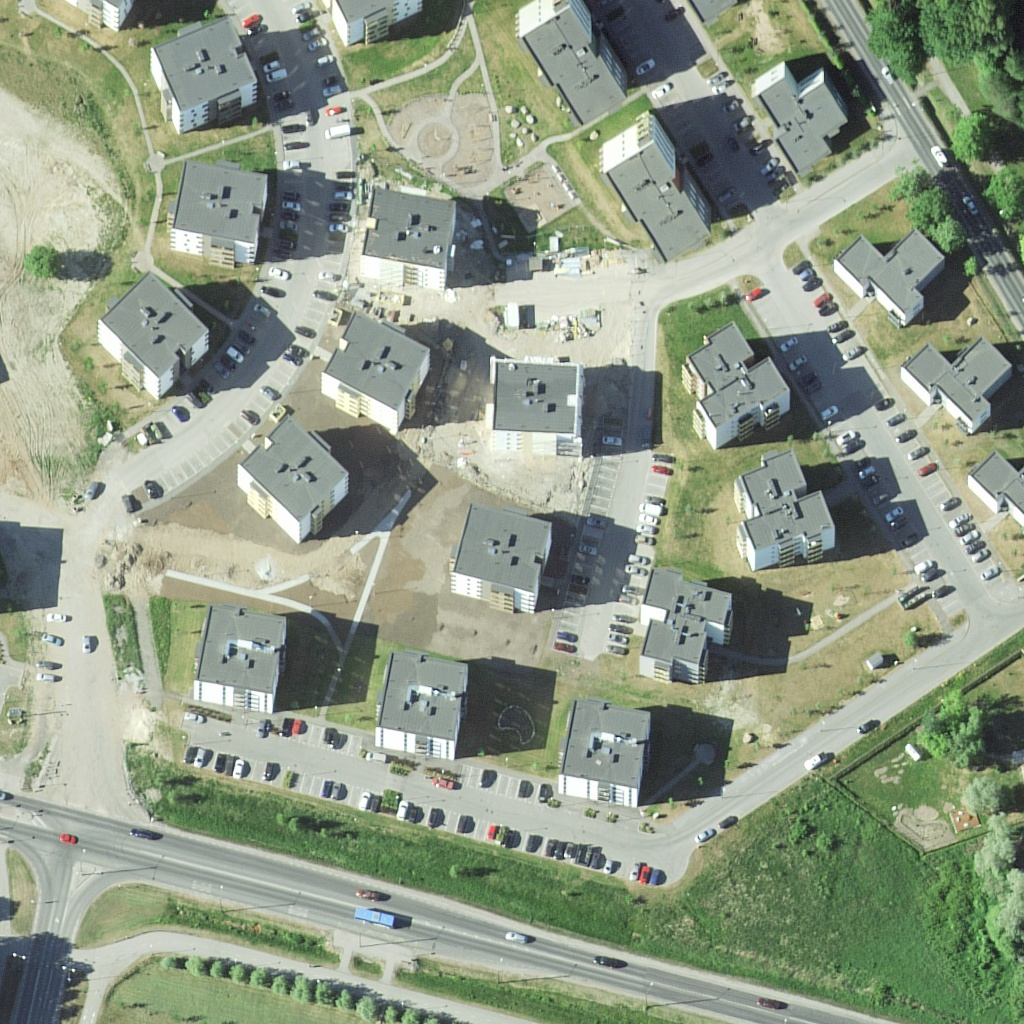building: (598, 118, 718, 268), (677, 323, 797, 450), (91, 270, 204, 402), (509, 1, 630, 124), (322, 313, 431, 441), (449, 496, 557, 625), (138, 19, 267, 126), (836, 213, 945, 337), (350, 177, 463, 295), (164, 161, 287, 269), (250, 413, 351, 541), (631, 561, 736, 684), (734, 451, 837, 570), (480, 356, 591, 465), (192, 603, 298, 716), (372, 649, 472, 765), (752, 58, 847, 177), (558, 697, 652, 809), (903, 338, 1009, 428), (968, 451, 1024, 522)
